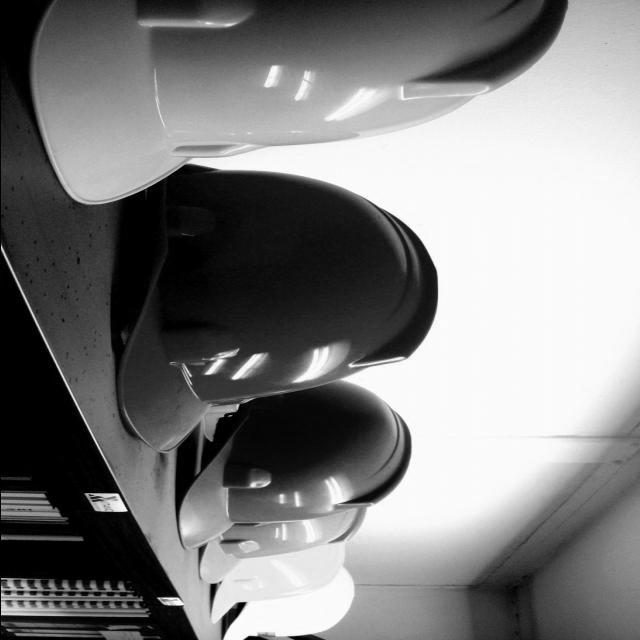construction helmet: (21, 0, 563, 206), (115, 163, 435, 453), (174, 381, 411, 550), (196, 508, 367, 583), (207, 545, 343, 622), (222, 567, 355, 640)
